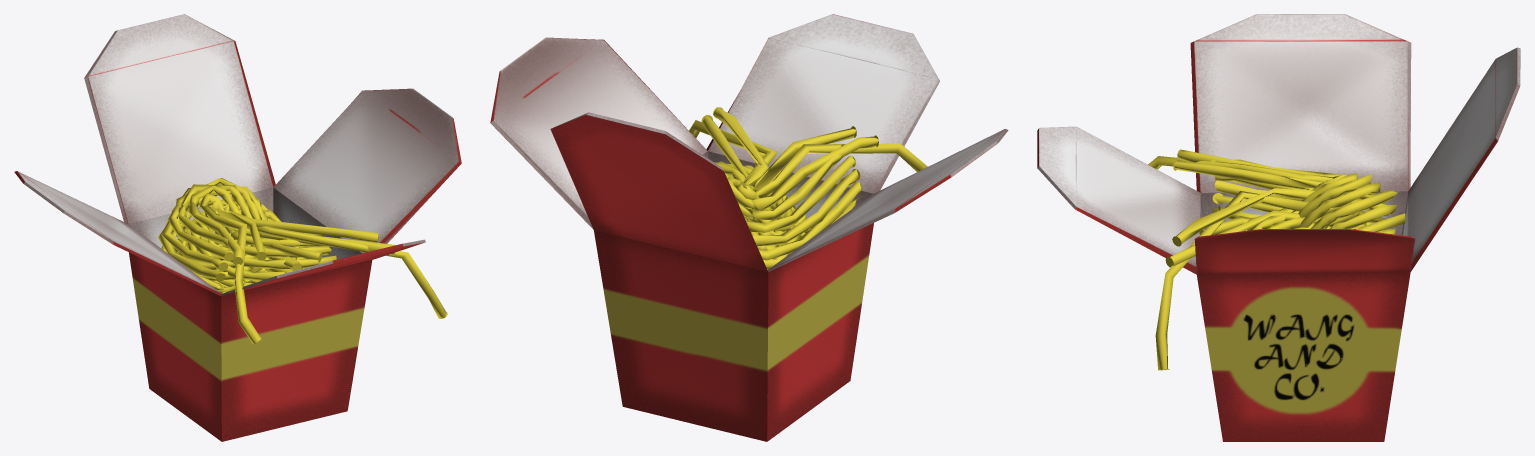
Rendered from NOODLES.fbx.
3 renders of one model, left to right at view 1: azimuth 30°, elevation 25°; view 2: azimuth 150°, elevation 25°; view 3: azimuth 270°, elevation 25°, orthographic. The views are drawn at different scales.
Visible parts, largest first — view 1: Cube.003; view 2: Cube.003; view 3: Cube.003.
Boxes of the visible parts, <box> form: Cube.003: <box>14,14,461,441</box>; Cube.003: <box>490,14,1008,441</box>; Cube.003: <box>1037,14,1520,441</box>.
Bounding box in the file's own units: 24.89 × 25.9 × 19.43.
Materials: 2 (1 with a texture image).
